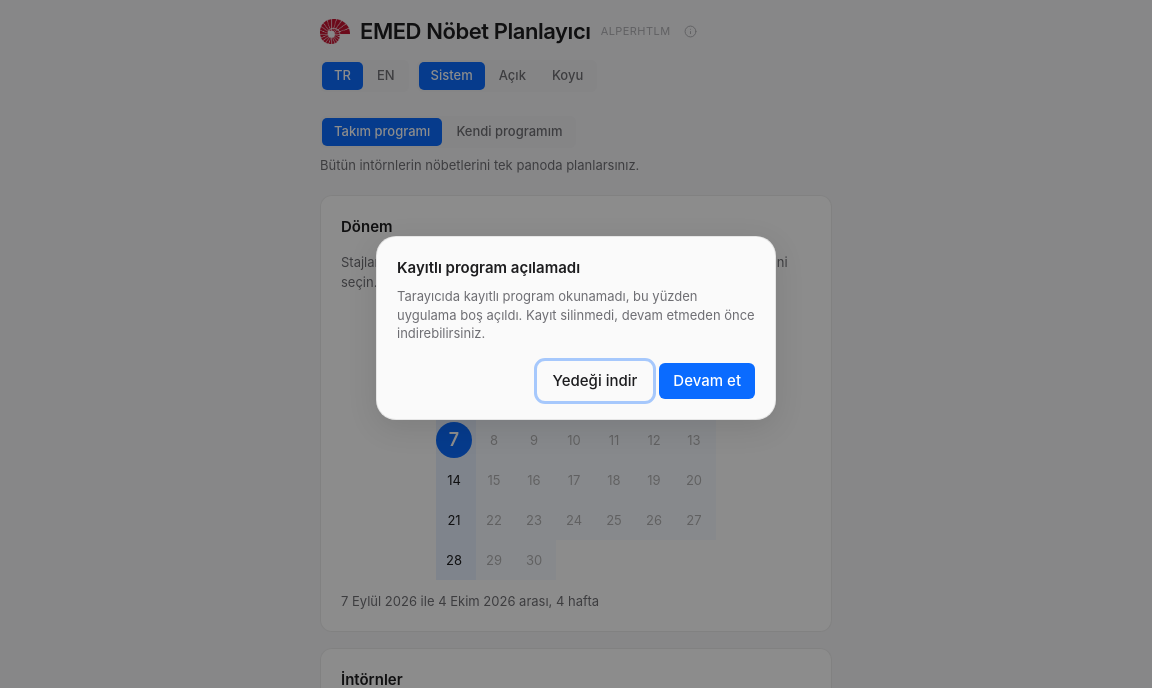
Test case: stress test fixes › hands back an unreadable draft instead of dropping it
expect the dialog "Kayıtlı program açılamadı" is shown: met, box left=376, top=236, right=776, bottom=420
Click the button "Devam et": click(707, 381) left=659, top=363, right=755, bottom=399
(page scrolled)
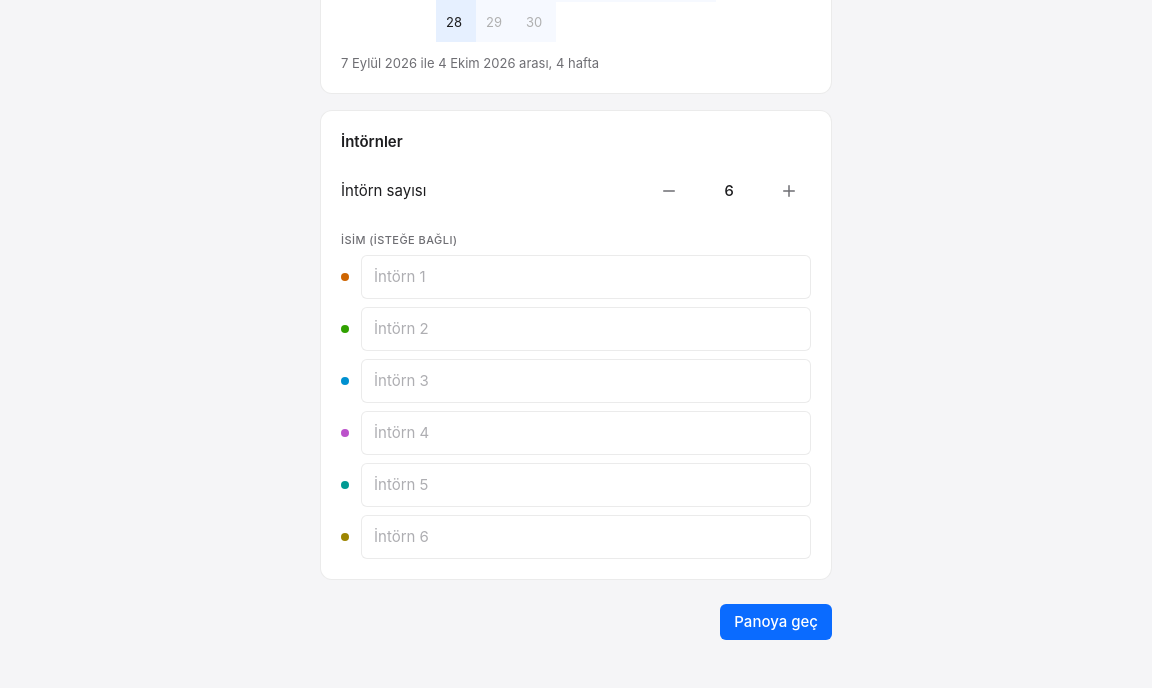
expect the button "Panoya geç" is shown: met, box left=720, top=604, right=832, bottom=640
expect the heading "Kayıtlı program açılamadı" is gone: met
